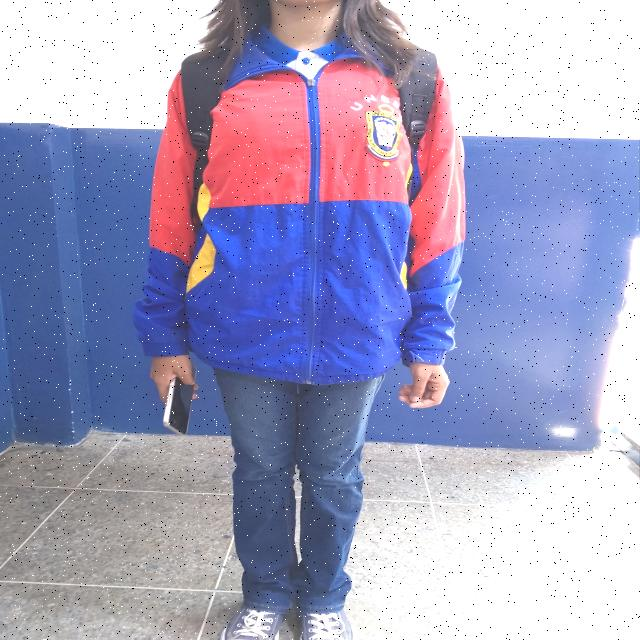chaqueta_unefa: (131, 33, 468, 387)
pantalon_oscuro: (209, 368, 380, 614)
